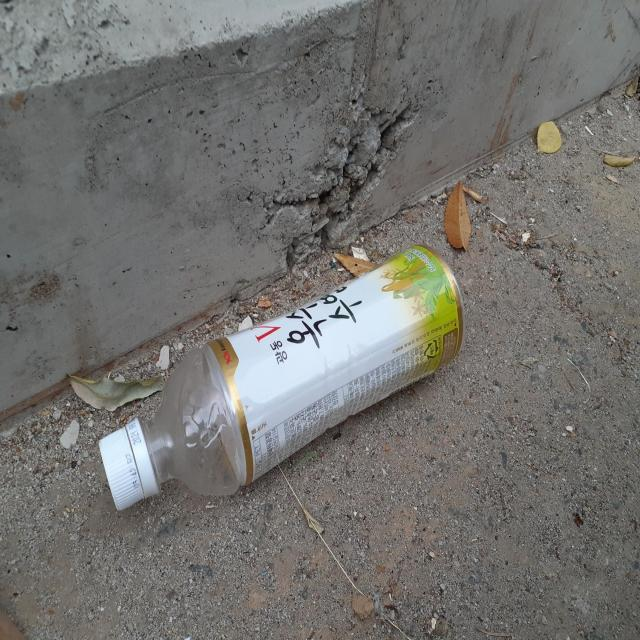plastic: (99, 245, 464, 511)
